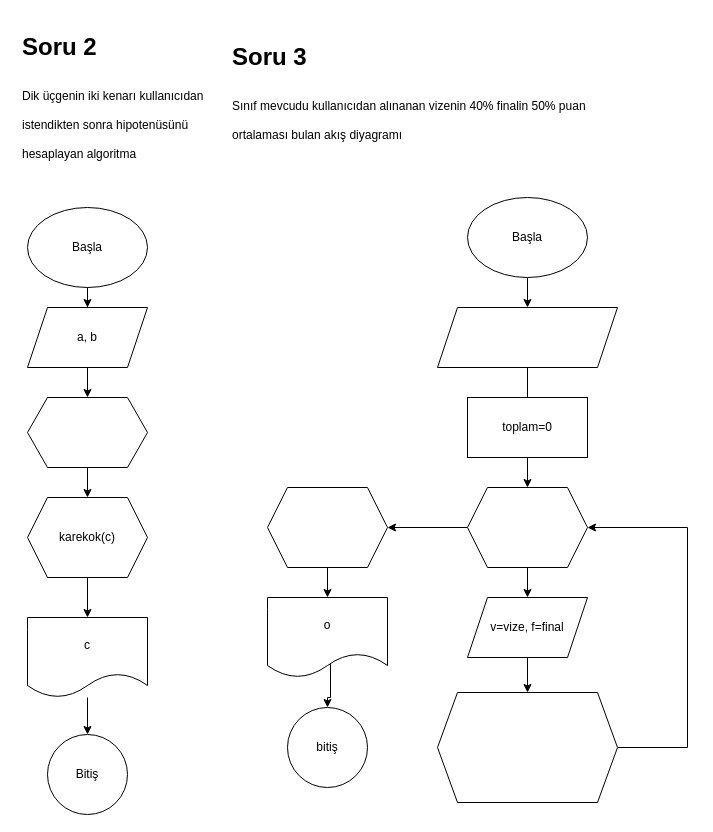
The diagram is 713 pixels wide and 832 high, and some of its shapes have lost their labels. Here are the shapes that lost their labels. From the top down, the centre of each, then its label:
At (527,337): "sinif_mevcudu sm=sinif_mevcudu".
At (87,432): "c =a2+b2".
At (327,527): "o=ortalama o = t / sm".
At (527,527): "i=0, i<=sm, i++".
At (527,747): "s=sonuc, t=toplam s=v*40% + f*60, t=t+s,".
